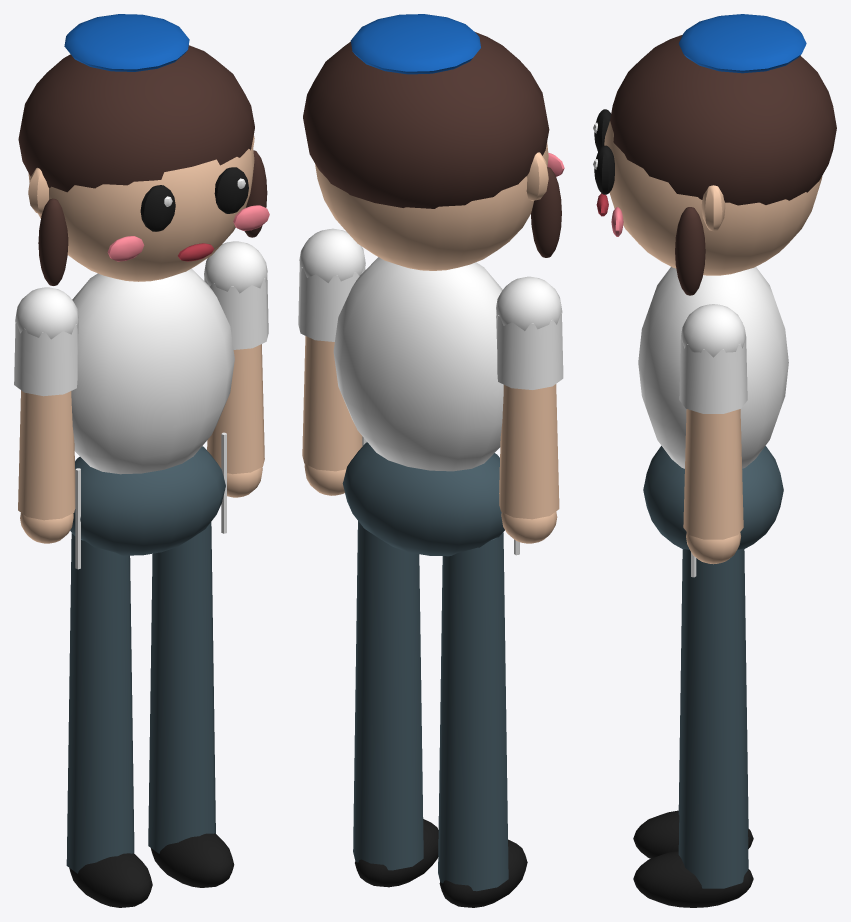
The model's file is interiors_cheder_kid.glb.
3 views of the same model, side by side, from view 1: azimuth 30°, elevation 25°; view 2: azimuth 150°, elevation 25°; view 3: azimuth 270°, elevation 25° (orthographic). The views are drawn at different scales.
Parts seen in each view (by area): view 1: Body.003, Leg_R.003, Leg_L.003, Arm_R.003, Arm_L.003, Acc.002; view 2: Body.003, Leg_R.003, Leg_L.003, Arm_R.003, Arm_L.003, Acc.002; view 3: Body.003, Leg_L.003, Arm_L.003, Leg_R.003, Acc.002.
Part boxes in pixels (bbox=[...]): Body.003: bbox=[18, 14, 269, 569]; Leg_R.003: bbox=[66, 533, 152, 907]; Leg_L.003: bbox=[148, 522, 234, 887]; Arm_R.003: bbox=[14, 287, 78, 543]; Arm_L.003: bbox=[204, 241, 268, 497]; Acc.002: bbox=[38, 150, 267, 285]; Body.003: bbox=[303, 14, 564, 556]; Leg_R.003: bbox=[438, 532, 527, 907]; Leg_L.003: bbox=[353, 521, 438, 887]; Arm_R.003: bbox=[496, 276, 563, 543]; Arm_L.003: bbox=[298, 228, 365, 495]; Acc.002: bbox=[531, 167, 561, 257]; Body.003: bbox=[593, 14, 836, 577]; Leg_L.003: bbox=[633, 548, 753, 907]; Arm_L.003: bbox=[679, 304, 747, 564]; Leg_R.003: bbox=[633, 549, 753, 858]; Acc.002: bbox=[675, 207, 705, 295].
Size of the model in its own units: 0.3694 by 1.21 by 0.3148.
